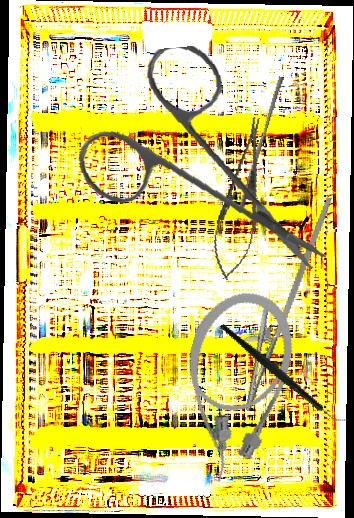Cannula: (155, 278, 308, 493)
Chopper: (219, 294, 349, 453)
Iris Scissors: (69, 36, 327, 288)
Needle Holder: (226, 185, 334, 419), (205, 113, 278, 284)
Pusher: (237, 75, 285, 215)
